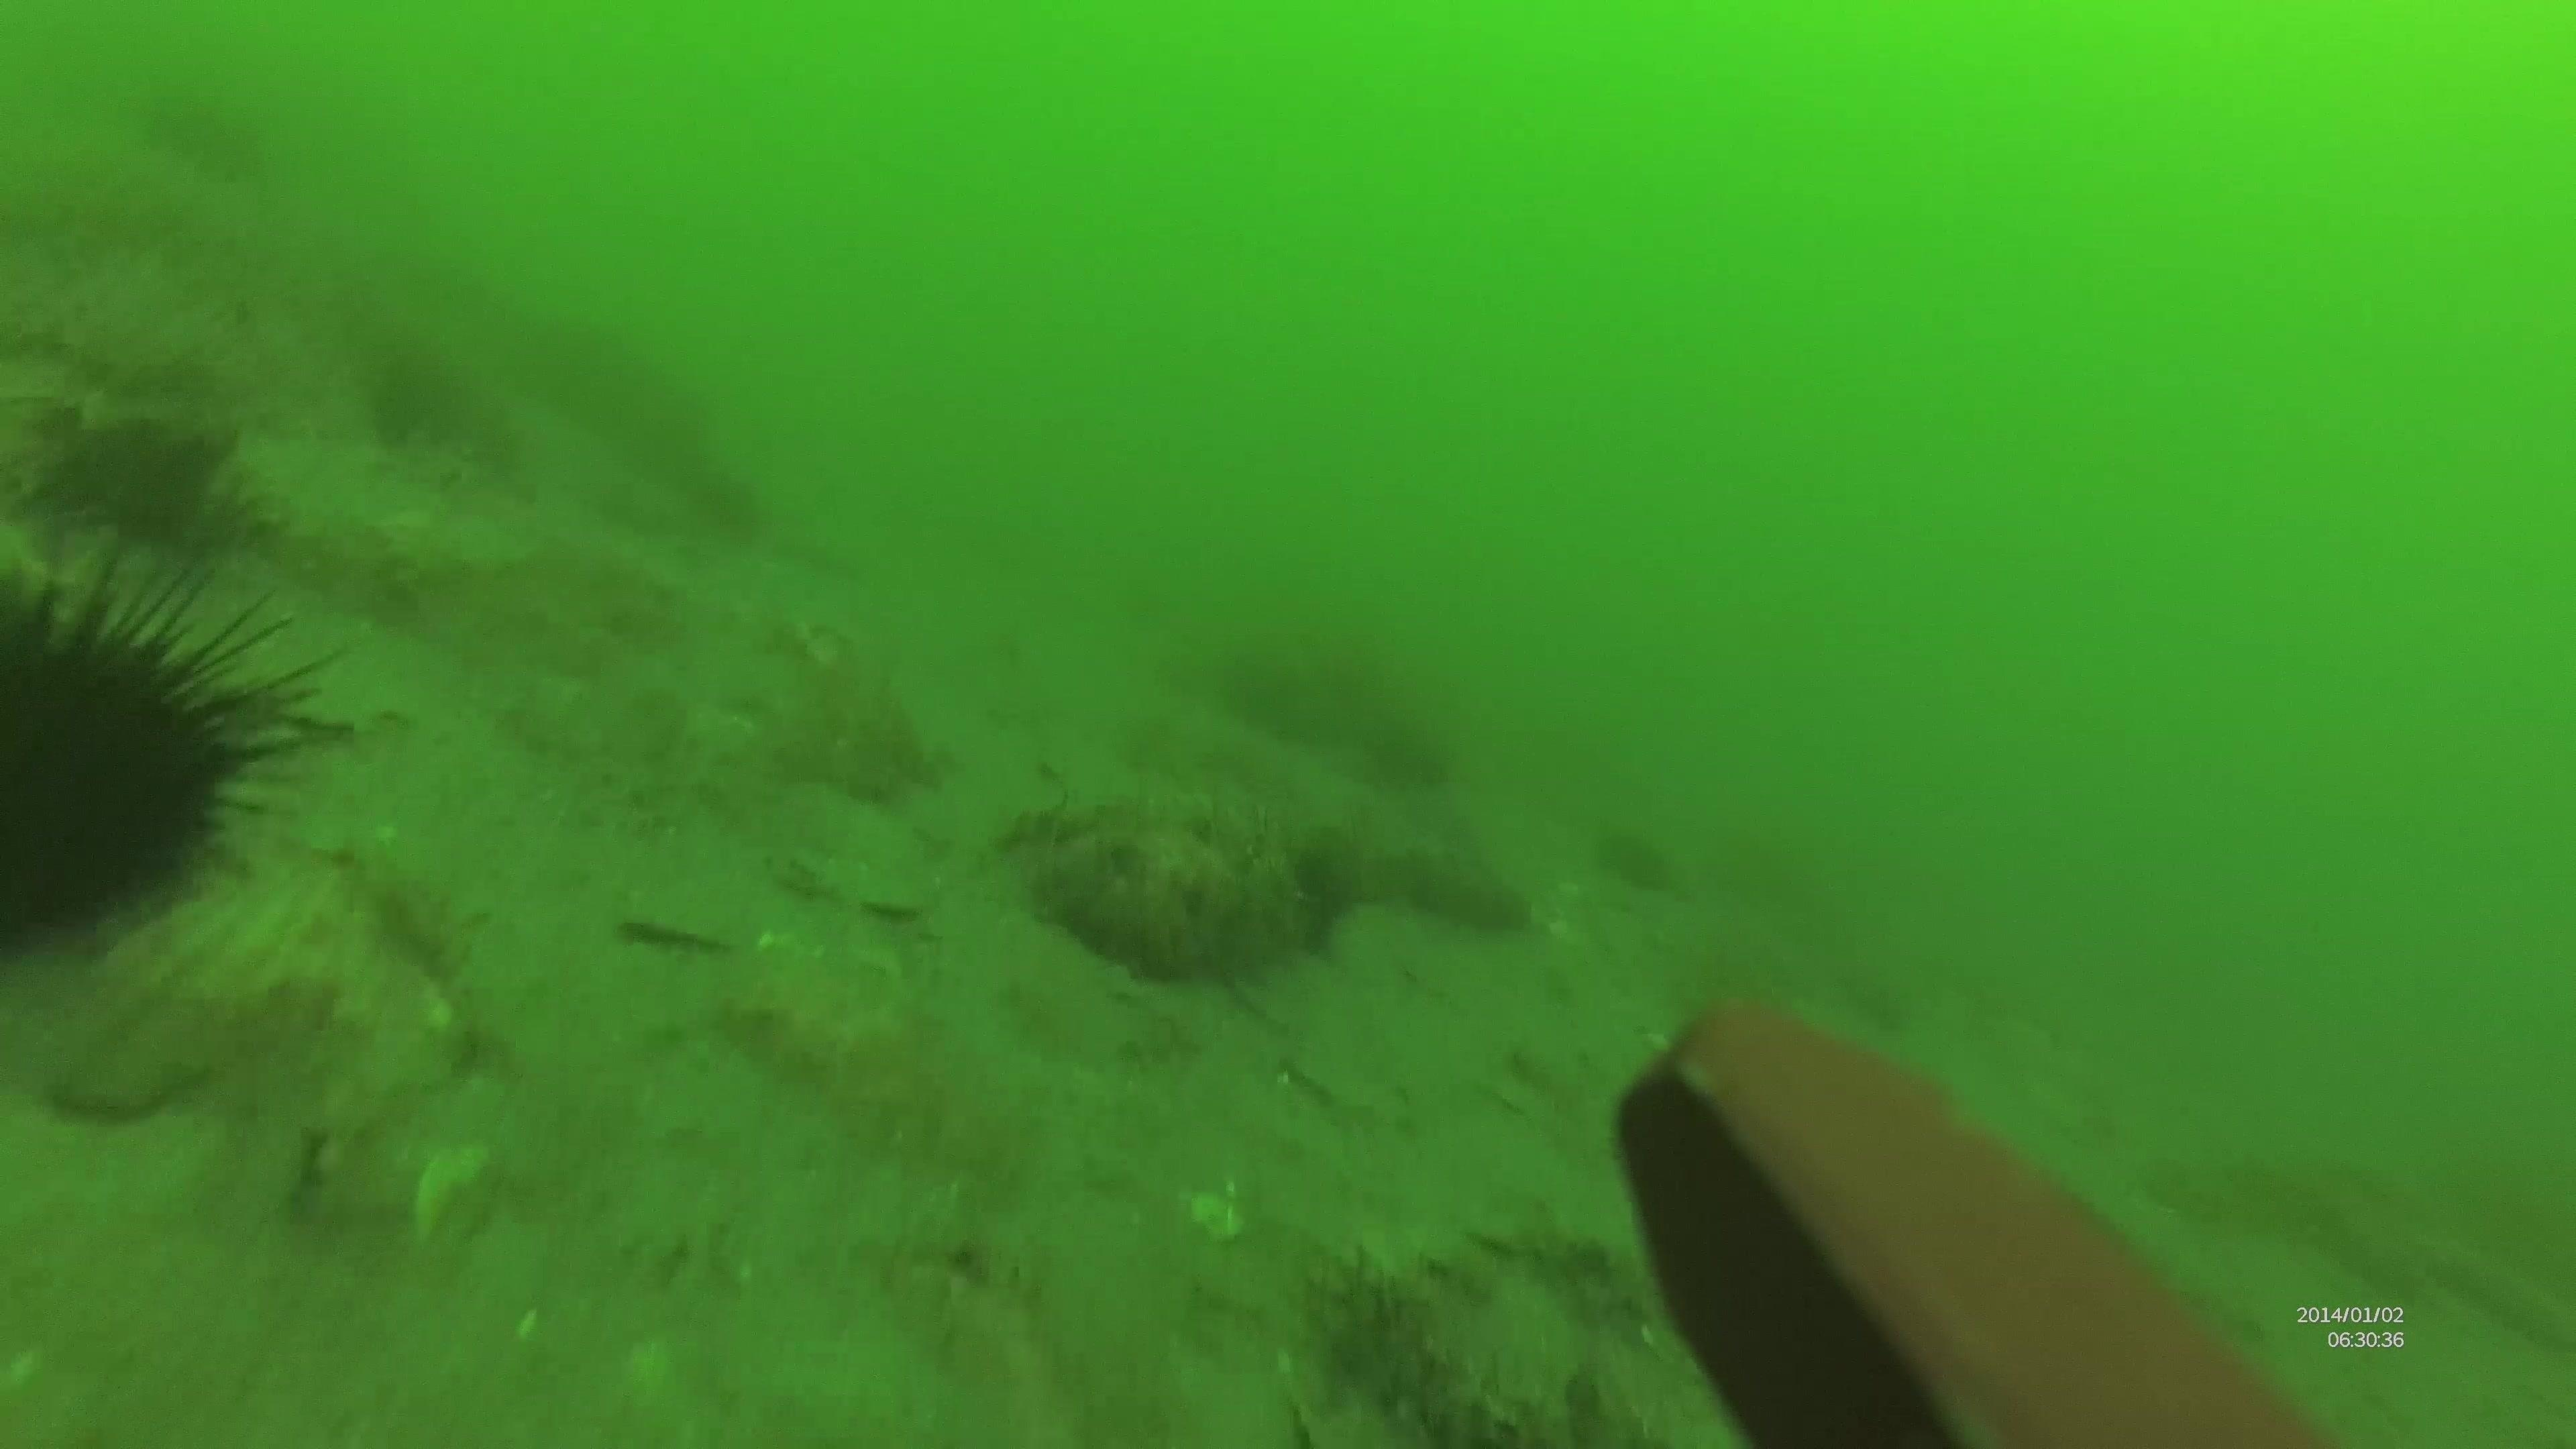echinus: (0, 536, 352, 957)
